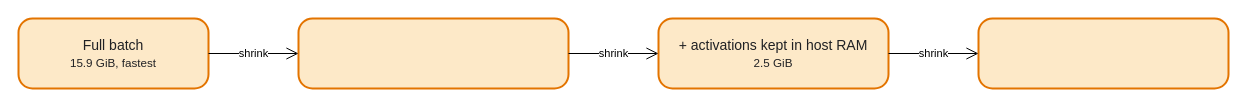
The diagram is 1246 pixels wide and 106 high, and some of its shapes have lost their labels. Here are the shapes that lost their labels. From the top down, the centre of each, then its label:
At [433,53]: "Smaller micro-batches 2, 4 or 8 per step: 8.7 / 5.0 / 3.2 GiB".
At [1103,53]: "+ part of the frozen weights streamed from host RAM 2.2 / 1.9 GiB".
